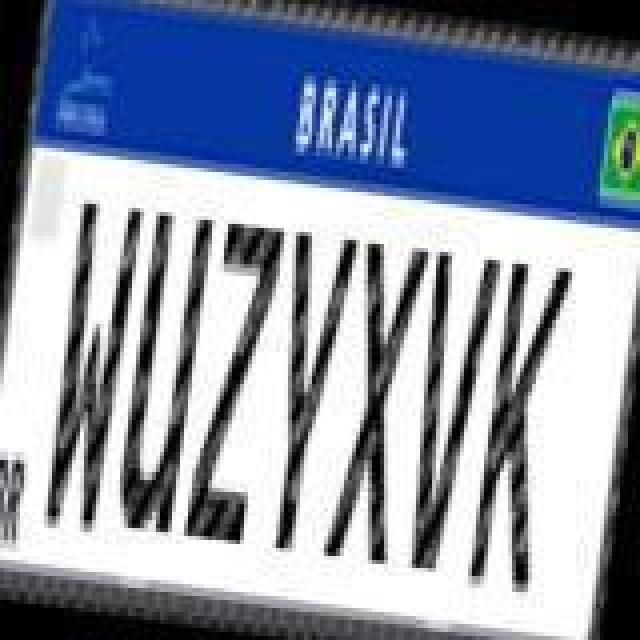K: (464, 254, 576, 602)
U: (112, 206, 216, 538)
V: (392, 244, 504, 580)
W: (32, 196, 144, 540)
X: (320, 232, 432, 568)
Y: (248, 224, 360, 560)
Z: (178, 216, 286, 552)
